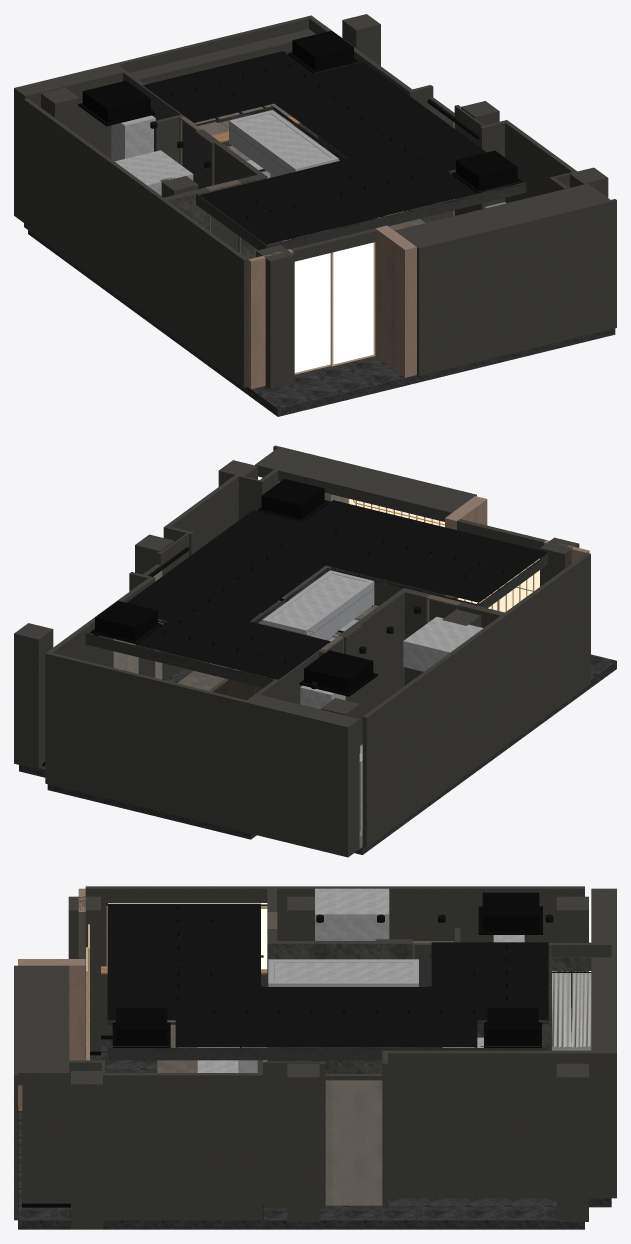
3 renders of one model, top to bottom at view 1: azimuth 30°, elevation 25°; view 2: azimuth 150°, elevation 25°; view 3: azimuth 270°, elevation 25°, orthographic. The views are drawn at different scales.
Parts seen in each view (by area): view 1: ACN10F_joined; view 2: ACN10F_joined; view 3: ACN10F_joined.
Boxes of the visible parts, x1,y1,x2,y2 form: ACN10F_joined: (14,14,616,416); ACN10F_joined: (14,445,616,857); ACN10F_joined: (14,886,616,1229).
Bounding box in the file's own units: 6.95 × 2.77 × 8.94.
39 materials, 19 textured.
